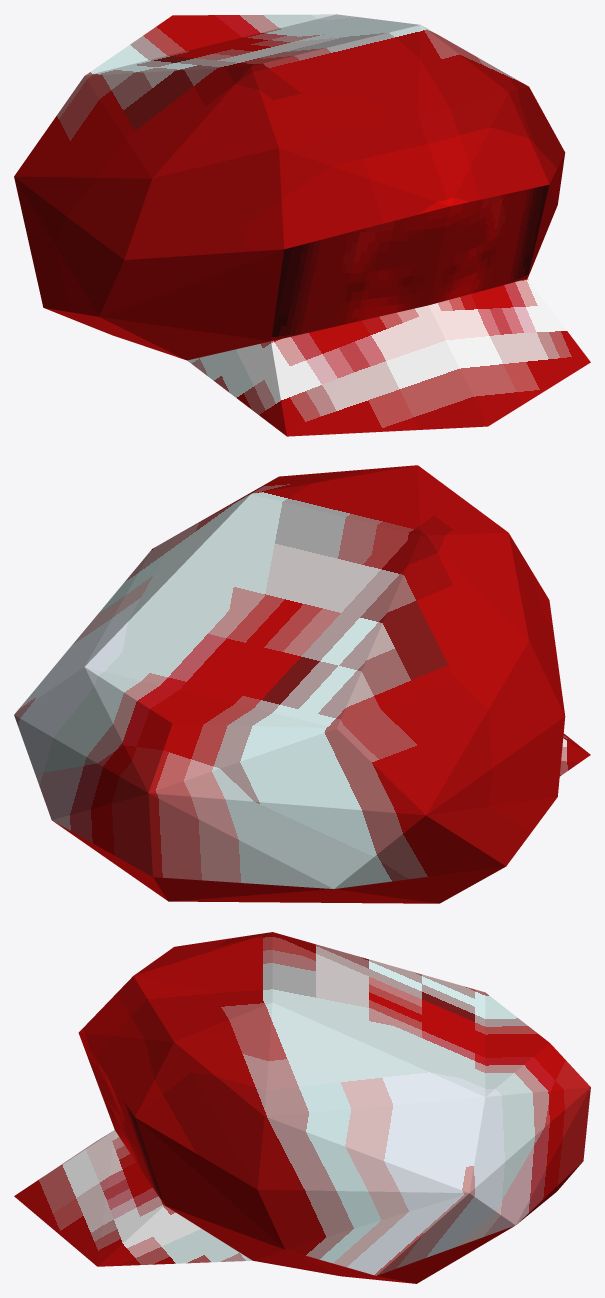
The model's file is mario_cap.obj.
3 renders of one model, top to bottom at view 1: azimuth 30°, elevation 25°; view 2: azimuth 150°, elevation 25°; view 3: azimuth 270°, elevation 25°, orthographic. The views are drawn at different scales.
Parts seen in each view (by area): view 1: mario_cap; view 2: mario_cap; view 3: mario_cap.
Boxes of the visible parts, <box> form: mario_cap: <box>14,14,590,436</box>; mario_cap: <box>14,465,590,903</box>; mario_cap: <box>14,932,590,1283</box>.
Size of the model in its own units: 10.17 by 5.9 by 12.92.
1 material, 1 textured.
